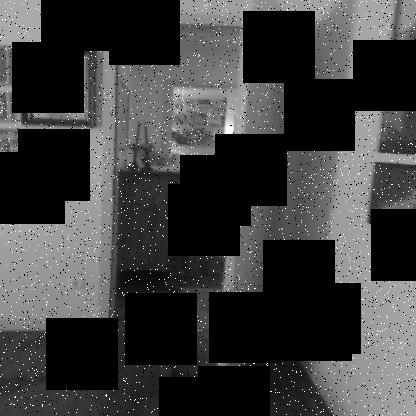Porte: (97, 0, 311, 403)
